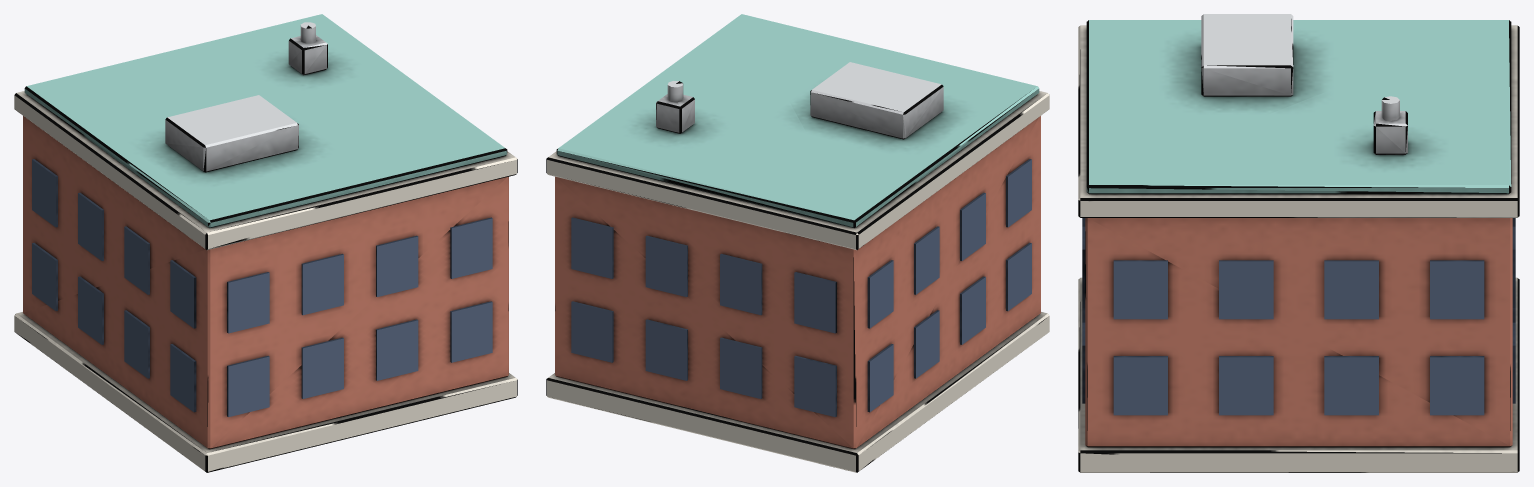
The model's file is building_near_a.obj.
The picture shows the model from 3 angles, left to right: view 1: azimuth 30°, elevation 25°; view 2: azimuth 150°, elevation 25°; view 3: azimuth 270°, elevation 25°; orthographic projection. The views are drawn at different scales.
Visible parts, largest first — view 1: body, roof, plinth, cornice, roof_unit, win_a_zp_0, win_a_zp_2, win_b_zp_3, win_a_zp_3, win_b_zp_0, win_b_zp_1, win_b_zp_2 (+10 smaller); view 2: body, roof, plinth, cornice, roof_unit, win_a_zm_0, win_a_zm_2, win_b_zm_3, win_a_zm_3, win_b_zm_0, win_b_zm_1, win_b_zm_2 (+10 smaller); view 3: body, roof, cornice, plinth, roof_unit, win_a_xp_1, win_a_xp_2, win_b_xp_1, win_b_xp_2, win_a_xp_0, win_a_xp_3, win_b_xp_0 (+2 smaller).
Part boxes in pixels (<box>): body: <box>23,116,508,449</box>; roof: <box>24,14,507,228</box>; plinth: <box>14,312,517,472</box>; cornice: <box>14,91,517,250</box>; roof_unit: <box>165,95,298,172</box>; win_a_zp_0: <box>227,355,269,417</box>; win_a_zp_2: <box>376,319,418,380</box>; win_b_zp_3: <box>450,217,492,278</box>; win_a_zp_3: <box>450,301,492,362</box>; win_b_zp_0: <box>227,272,269,333</box>; win_b_zp_1: <box>301,253,343,315</box>; win_b_zp_2: <box>376,235,418,296</box>; body: <box>555,116,1040,449</box>; roof: <box>556,14,1039,228</box>; plinth: <box>546,312,1049,472</box>; cornice: <box>546,91,1049,250</box>; roof_unit: <box>810,62,943,139</box>; win_a_zm_0: <box>794,355,836,417</box>; win_a_zm_2: <box>645,319,687,380</box>; win_b_zm_3: <box>571,217,613,278</box>; win_a_zm_3: <box>571,301,613,362</box>; win_b_zm_0: <box>794,272,836,333</box>; win_b_zm_1: <box>720,253,762,315</box>; win_b_zm_2: <box>645,235,687,296</box>; body: <box>1085,218,1512,447</box>; roof: <box>1086,20,1511,194</box>; cornice: <box>1078,25,1519,217</box>; plinth: <box>1078,277,1519,472</box>; roof_unit: <box>1201,14,1293,96</box>; win_a_xp_1: <box>1324,356,1378,415</box>; win_a_xp_2: <box>1219,356,1273,415</box>; win_b_xp_1: <box>1324,260,1378,319</box>; win_b_xp_2: <box>1219,260,1273,319</box>; win_a_xp_0: <box>1430,356,1484,415</box>; win_a_xp_3: <box>1113,356,1167,415</box>; win_b_xp_0: <box>1430,260,1484,319</box>.
Bounding box in the file's own units: 7.2 × 6.4 × 7.7.
